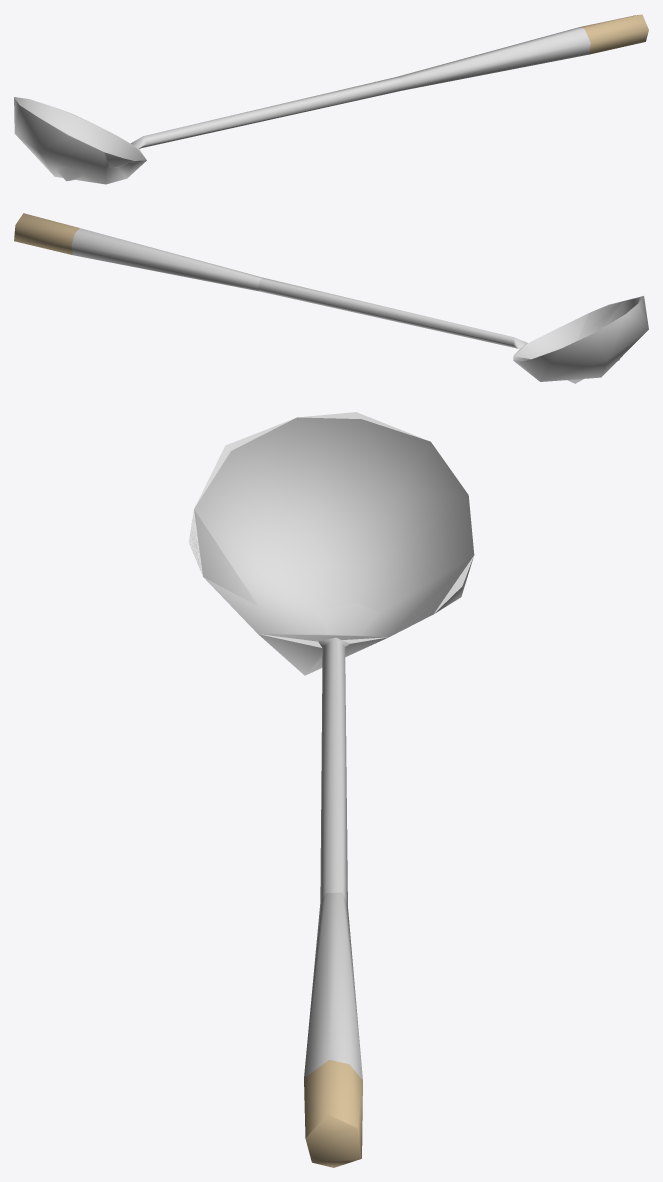
The model's file is SM_H_Government_Tide_Spatula_01_ATLAS.fbx.
The picture shows the model from 3 angles, top to bottom: view 1: azimuth 30°, elevation 25°; view 2: azimuth 150°, elevation 25°; view 3: azimuth 270°, elevation 25°; orthographic projection. The views are drawn at different scales.
Parts seen in each view (by area): view 1: SM_H_Government_Tide_Spatula_01_ATLAS_LOD0; view 2: SM_H_Government_Tide_Spatula_01_ATLAS_LOD0; view 3: SM_H_Government_Tide_Spatula_01_ATLAS_LOD0.
Part boxes in pixels (bbox=[...]): SM_H_Government_Tide_Spatula_01_ATLAS_LOD0: bbox=[14, 14, 648, 184]; SM_H_Government_Tide_Spatula_01_ATLAS_LOD0: bbox=[14, 213, 648, 383]; SM_H_Government_Tide_Spatula_01_ATLAS_LOD0: bbox=[188, 412, 474, 1167].
Bounding box in the file's own units: 51.39 × 10.38 × 6.91.
